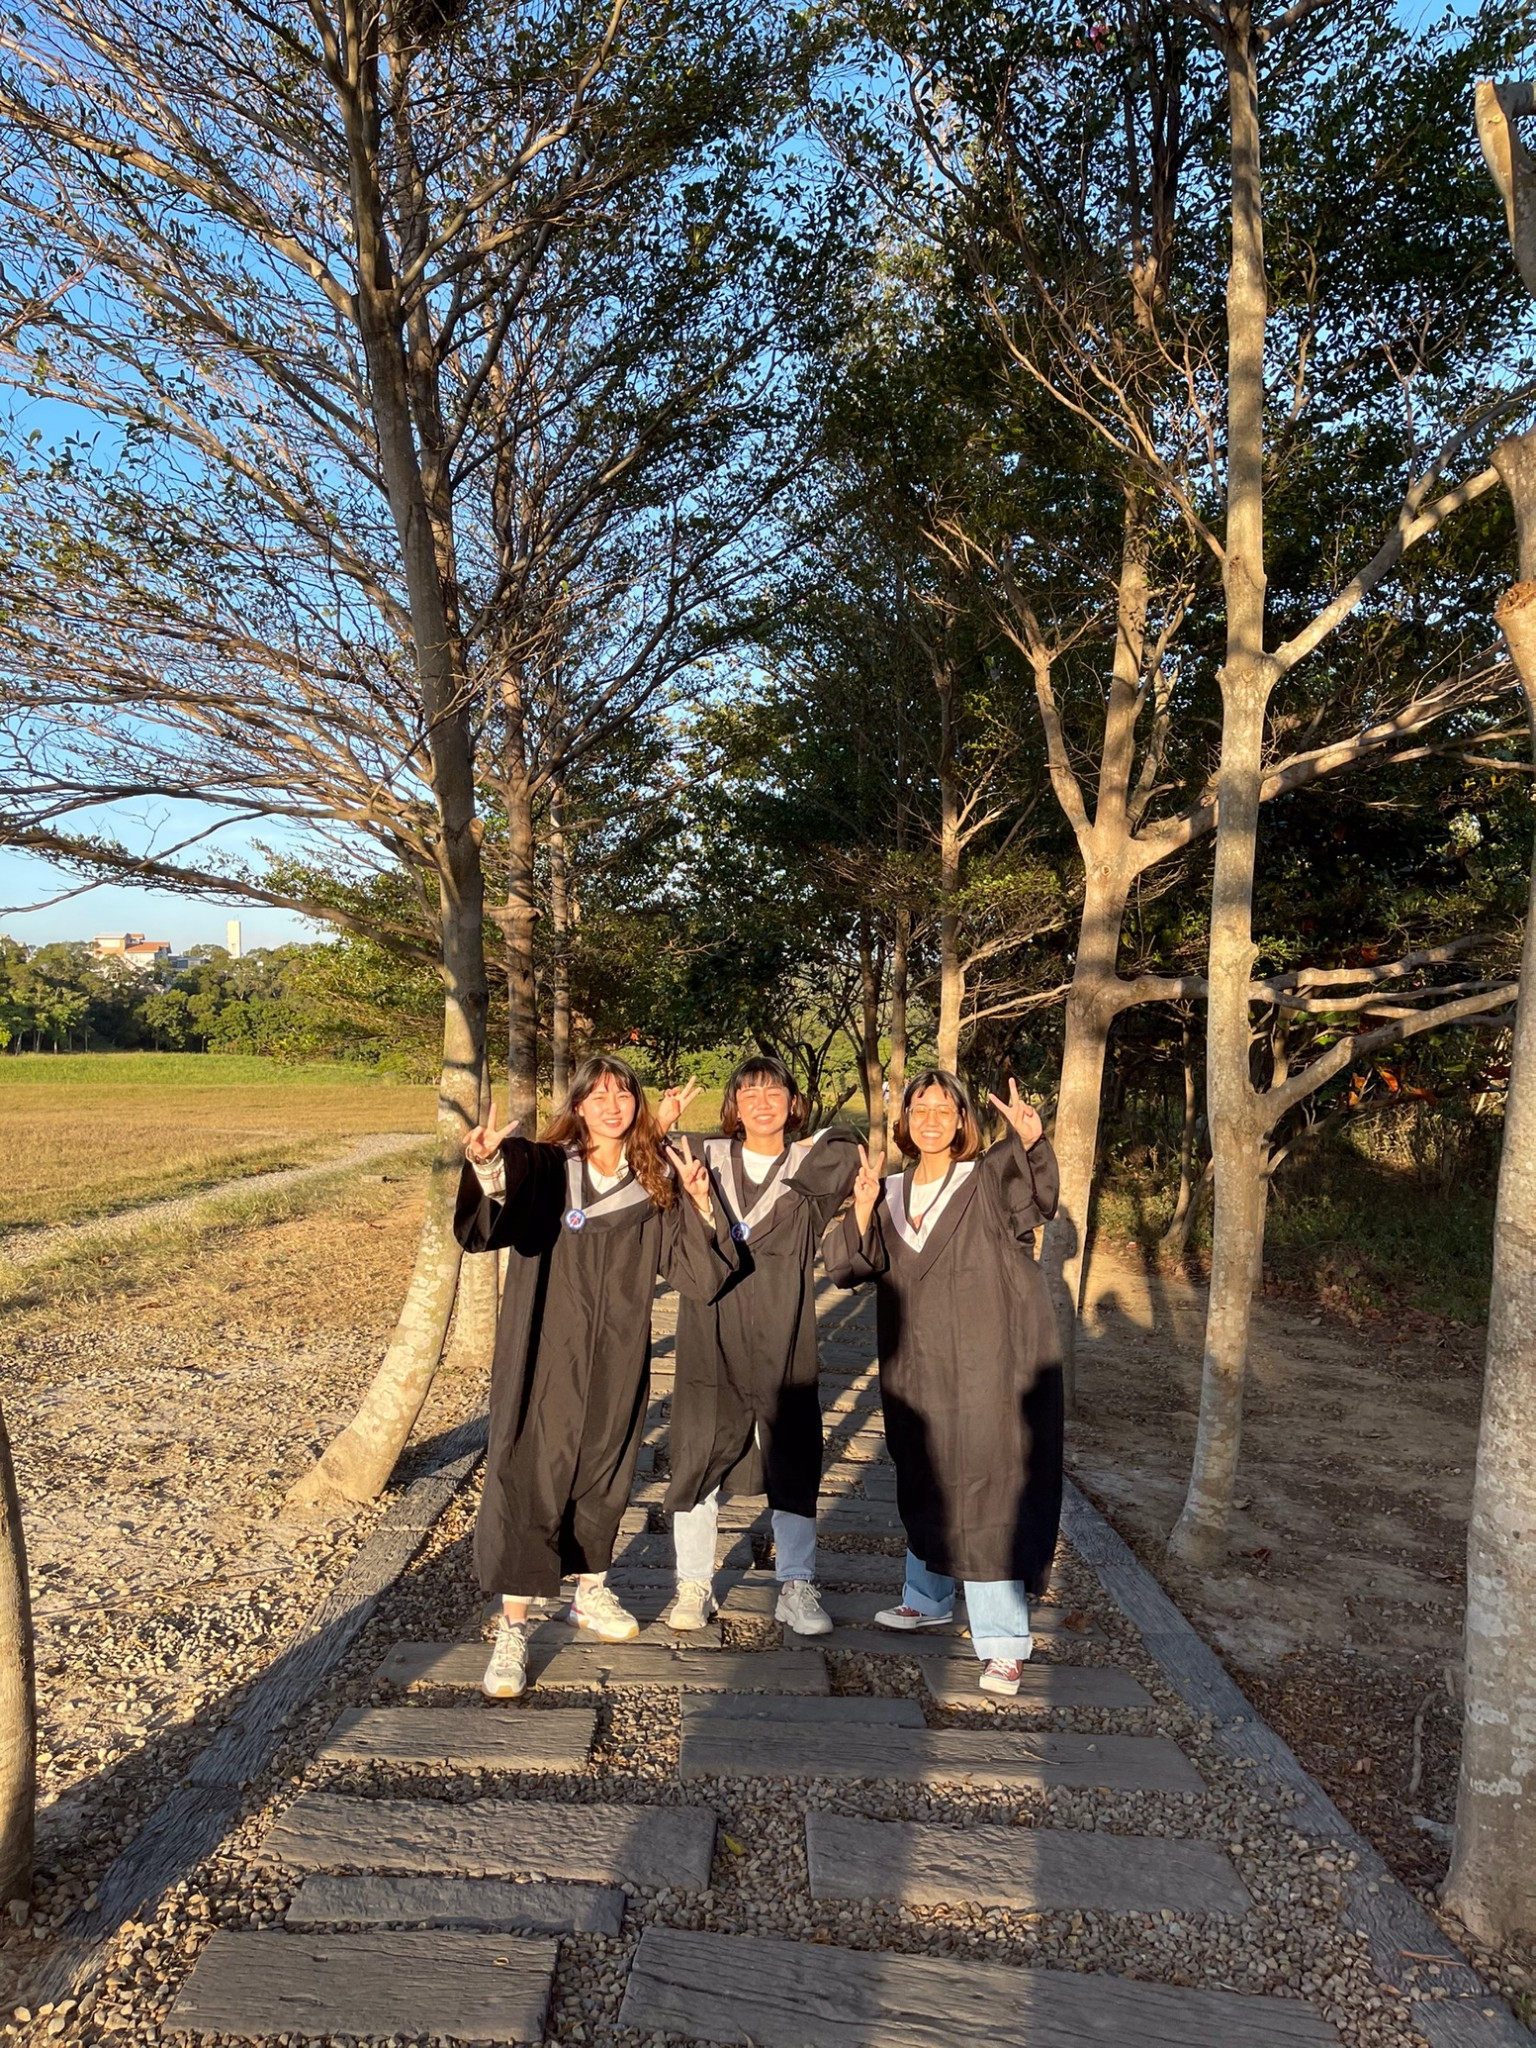people: (856, 1054, 1031, 1689), (508, 1064, 666, 1651), (669, 1064, 821, 1638)
